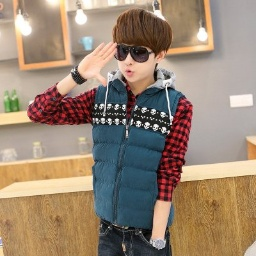face: (108, 8, 172, 84)
